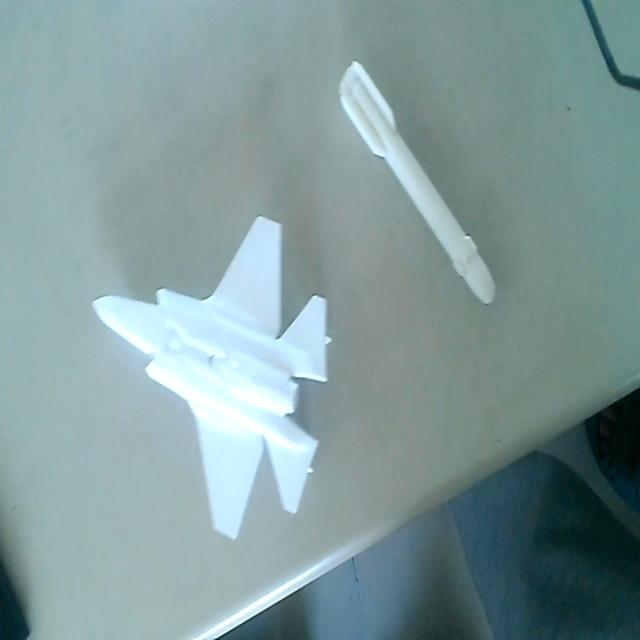Jet: (90, 214, 331, 550)
Rocket: (336, 55, 499, 312)
